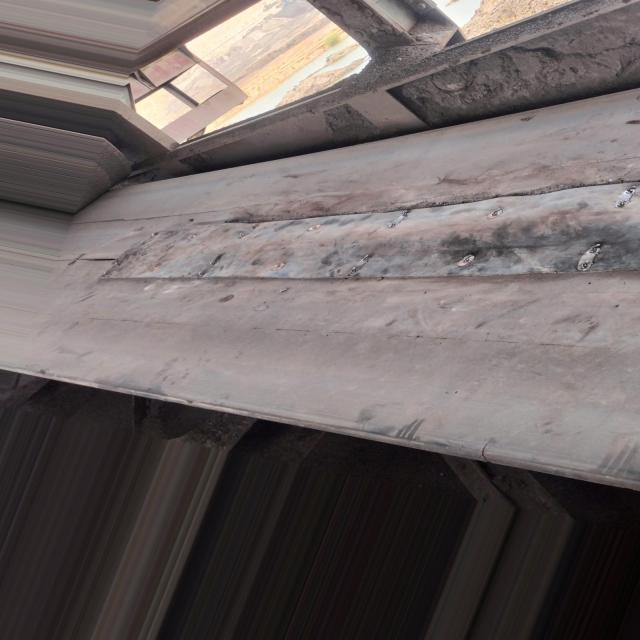patch work: (97, 180, 637, 277)
